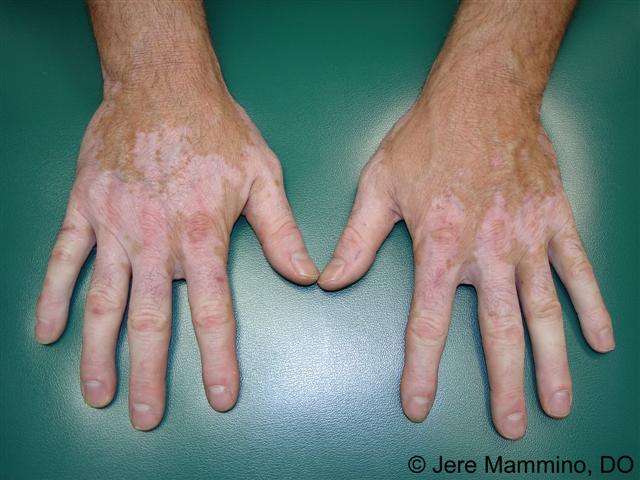vitiligo: (75, 77, 264, 383), (406, 110, 595, 356)
